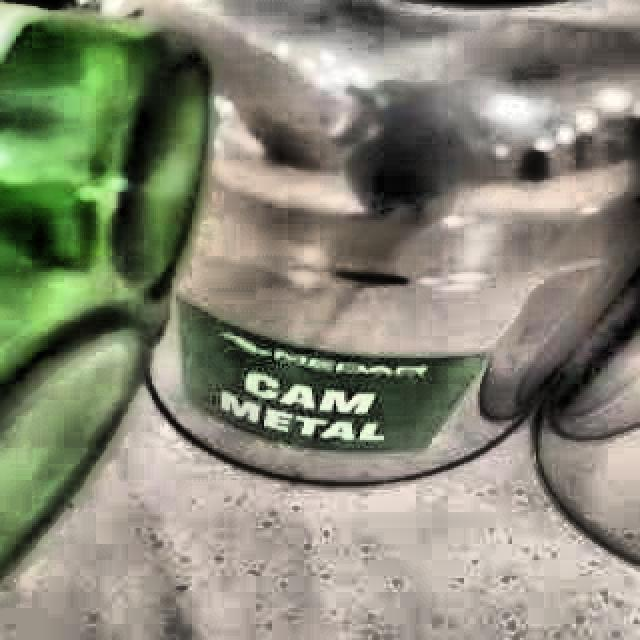glass: (0, 5, 211, 578)
